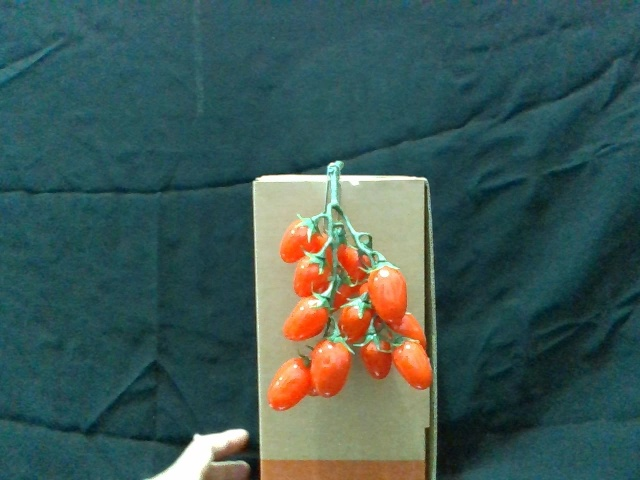tomato: (367, 263, 410, 324), (310, 337, 352, 399), (392, 337, 433, 393), (284, 294, 330, 342), (271, 357, 311, 412), (281, 217, 320, 263), (339, 294, 376, 340), (362, 333, 395, 382), (293, 253, 332, 294)
